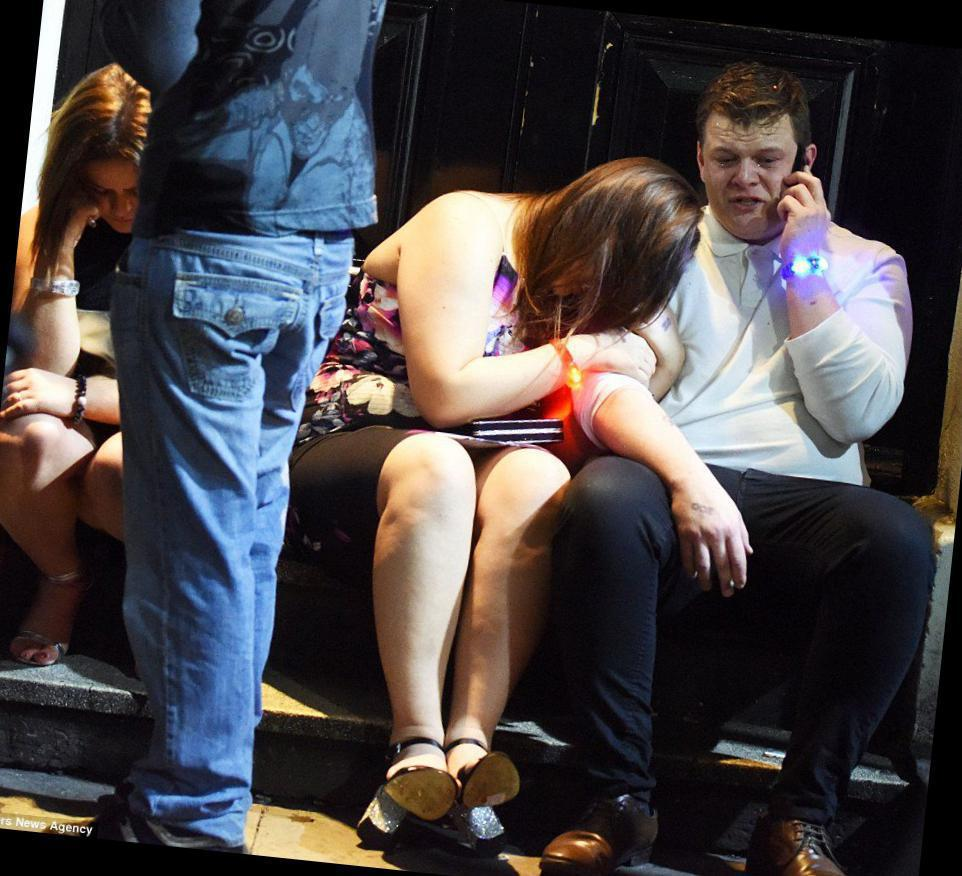Drunk: (709, 126, 801, 234)
